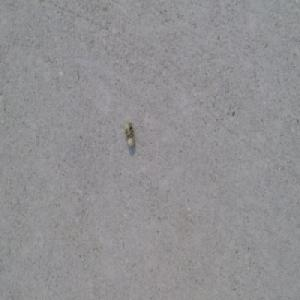BoltNutSet: (124, 121, 136, 147)
